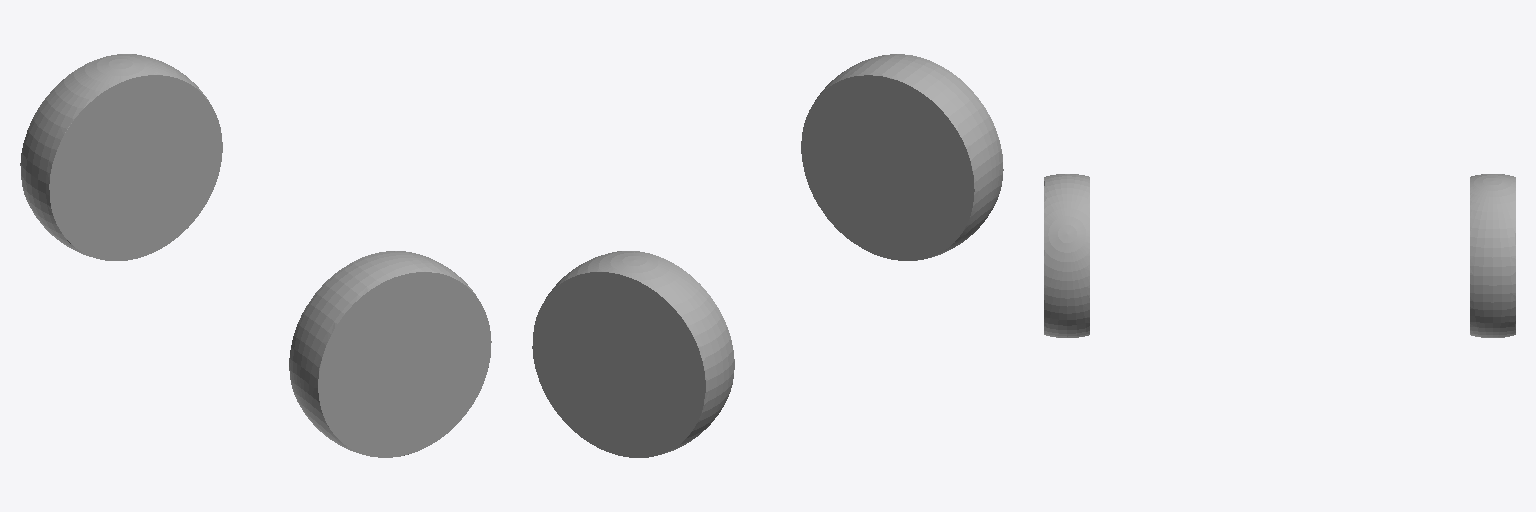
URDF robot description (diablo_mesh):
<?xml version="1.0" encoding="utf-8"?>
<!-- This URDF was automatically created by SolidWorks to URDF Exporter! Originally created by [author] ([email redacted]) 
     Commit Version: 1.6.0-4-g7f85cfe  Build Version: 1.6.7995.38578
     For more information, please see http://wiki.ros.org/sw_urdf_exporter -->
<robot
  name="diablo_mesh">
  <link
    name="base_link">
    <inertial>
      <origin
        xyz="0.020214 1.4086E-08 0.0092665"
        rpy="0 0 0" />
      <mass
        value="11.639" />
      <inertia
        ixx="0.071628"
        ixy="-5.9879E-09"
        ixz="-0.00097471"
        iyy="0.16274"
        iyz="-1.6369E-08"
        izz="0.14673" />
    </inertial>
    <visual>
      <origin
        xyz="0 0 0"
        rpy="0 0 0" />
      <geometry>
        <mesh
          filename="../meshes/base_link.STL" />
      </geometry>
      <material
        name="">
        <color
          rgba="0.79216 0.81961 0.93333 1" />
      </material>
    </visual>
    <collision>
      <origin
        xyz="0 0 0"
        rpy="0 0 0" />
      <geometry>
        <mesh
          filename="../meshes/base_link.STL" />
      </geometry>
    </collision>
  </link>
  <link
    name="left_motor">
    <inertial>
      <origin
        xyz="0.0012043 -9.954E-08 -0.066749"
        rpy="0 0 0" />
      <mass
        value="1.3837" />
      <inertia
        ixx="0.003352"
        ixy="2.7785E-09"
        ixz="-6.5913E-05"
        iyy="0.0034908"
        iyz="4.5045E-10"
        izz="0.0034856" />
    </inertial>
    <visual>
      <origin
        xyz="0 0 0"
        rpy="0 0 0" />
      <geometry>
        <mesh
          filename="../meshes/left_motor.STL" />
      </geometry>
      <material
        name="">
        <color
          rgba="0.62745 0.62745 0.62745 1" />
      </material>
    </visual>
    <collision>
      <origin
        xyz="0 0 0"
        rpy="0 0 0" />
      <geometry>
        <mesh
          filename="../meshes/left_motor.STL" />
      </geometry>
    </collision>
  </link>
  <joint
    name="left_j4"
    type="continuous">
    <origin
      xyz="0 0.18755 0"
      rpy="1.5708 0.13433 -3.1416" />
    <parent
      link="base_link" />
    <child
      link="left_motor" />
    <axis
      xyz="0 0 -1" />
  </joint>
  <link
    name="left_leg1">
    <inertial>
      <origin
        xyz="0.056675 -0.014633 -0.0079998"
        rpy="0 0 0" />
      <mass
        value="0.10382" />
      <inertia
        ixx="3.6972E-05"
        ixy="2.4106E-05"
        ixz="4.3699E-10"
        iyy="0.00029278"
        iyz="-4.1243E-11"
        izz="0.00032532" />
    </inertial>
    <visual>
      <origin
        xyz="0 0 0"
        rpy="0 0 0" />
      <geometry>
        <mesh
          filename="../meshes/left_leg1.STL" />
      </geometry>
      <material
        name="">
        <color
          rgba="0.62745 0.62745 0.62745 1" />
      </material>
    </visual>
    <collision>
      <origin
        xyz="0 0 0"
        rpy="0 0 0" />
      <geometry>
        <mesh
          filename="../meshes/left_leg1.STL" />
      </geometry>
    </collision>
  </link>
  <joint
    name="left_j1"
    type="continuous">
    <origin
      xyz="0 0 0"
      rpy="0 0 -2.8729" />
    <parent
      link="left_motor" />
    <child
      link="left_leg1" />
    <axis
      xyz="0 0 -1" />
  </joint>
  <link
    name="left_leg2">
    <inertial>
      <origin
        xyz="0.092381 7.2105E-07 0.012349"
        rpy="0 0 0" />
      <mass
        value="0.18218" />
      <inertia
        ixx="4.1372E-05"
        ixy="5.1445E-09"
        ixz="-7.3659E-06"
        iyy="0.00048219"
        iyz="2.5521E-11"
        izz="0.00050441" />
    </inertial>
    <visual>
      <origin
        xyz="0 0 0"
        rpy="0 0 0" />
      <geometry>
        <mesh
          filename="../meshes/left_leg2.STL" />
      </geometry>
      <material
        name="">
        <color
          rgba="0.62745 0.62745 0.62745 1" />
      </material>
    </visual>
    <collision>
      <origin
        xyz="0 0 0"
        rpy="0 0 0" />
      <geometry>
        <mesh
          filename="../meshes/left_leg2.STL" />
      </geometry>
    </collision>
  </link>
  <joint
    name="left_j2"
    type="continuous">
    <origin
      xyz="0.14 0 0"
      rpy="0 0 2.8729" />
    <parent
      link="left_leg1" />
    <child
      link="left_leg2" />
    <axis
      xyz="0 0 1" />
  </joint>
  <link
    name="left_wheel">
    <inertial>
      <origin
        xyz="1.7359E-08 -1.5164E-10 5.0791E-09"
        rpy="0 0 0" />
      <mass
        value="2.9494" />
      <inertia
        ixx="0.0069338"
        ixy="2.8693E-09"
        ixz="4.6779E-09"
        iyy="0.006934"
        iyz="-5.0441E-11"
        izz="0.012567" />
    </inertial>
    <visual>
      <origin
        xyz="0 0 0"
        rpy="0 0 0" />
      <geometry>
        <mesh
          filename="../meshes/left_wheel.STL" />
      </geometry>
      <material
        name="">
        <color
          rgba="0.69804 0.69804 0.69804 1" />
        <texture
          filename="../textures/0a6c950e073a74d2e5cfa0c785a44257.jpg" />
      </material>
    </visual>
    <collision>
      <origin
        xyz="0 0 0"
        rpy="0 0 0" />
      <geometry>
        <mesh
          filename="../meshes/left_wheel.STL" />
      </geometry>
    </collision>
  </link>
  <joint
    name="left_j3"
    type="continuous">
    <origin
      xyz="0.14 0 0.0537"
      rpy="0 0 0.13433" />
    <parent
      link="left_leg2" />
    <child
      link="left_wheel" />
    <axis
      xyz="0 0 -1" />
  </joint>
  <link
    name="left_leg3">
    <inertial>
      <origin
        xyz="0.072113 0.016825 -0.008"
        rpy="0 0 0" />
      <mass
        value="0.071103" />
      <inertia
        ixx="1.6657E-05"
        ixy="-5.5246E-06"
        ixz="3.9598E-14"
        iyy="0.00017966"
        iyz="-6.5493E-15"
        izz="0.00019328" />
    </inertial>
    <visual>
      <origin
        xyz="0 0 0"
        rpy="0 0 0" />
      <geometry>
        <mesh
          filename="../meshes/left_leg3.STL" />
      </geometry>
      <material
        name="">
        <color
          rgba="0.62745 0.62745 0.62745 1" />
      </material>
    </visual>
    <collision>
      <origin
        xyz="0 0 0"
        rpy="0 0 0" />
      <geometry>
        <mesh
          filename="../meshes/left_leg3.STL" />
      </geometry>
    </collision>
  </link>
  <joint
    name="left_j5"
    type="continuous">
    <origin
      xyz="0.09 0 0"
      rpy="0 0 -2.8729" />
    <parent
      link="left_motor" />
    <child
      link="left_leg3" />
    <axis
      xyz="0 0 1" />
  </joint>
  <link
    name="right_motor">
    <inertial>
      <origin
        xyz="0.0012044 1.8203E-07 0.066749"
        rpy="0 0 0" />
      <mass
        value="1.3838" />
      <inertia
        ixx="0.003352"
        ixy="-2.6527E-09"
        ixz="6.5914E-05"
        iyy="0.0034908"
        iyz="-7.2968E-10"
        izz="0.0034856" />
    </inertial>
    <visual>
      <origin
        xyz="0 0 0"
        rpy="0 0 0" />
      <geometry>
        <mesh
          filename="../meshes/right_motor.STL" />
      </geometry>
      <material
        name="">
        <color
          rgba="0.62745 0.62745 0.62745 1" />
      </material>
    </visual>
    <collision>
      <origin
        xyz="0 0 0"
        rpy="0 0 0" />
      <geometry>
        <mesh
          filename="../meshes/right_motor.STL" />
      </geometry>
    </collision>
  </link>
  <joint
    name="right_j4"
    type="continuous">
    <origin
      xyz="0 -0.18755 0"
      rpy="1.5708 0.13433 3.1416" />
    <parent
      link="base_link" />
    <child
      link="right_motor" />
    <axis
      xyz="0 0 -1" />
  </joint>
  <link
    name="right_leg1">
    <inertial>
      <origin
        xyz="0.056675 -0.014633 0.0079998"
        rpy="0 0 0" />
      <mass
        value="0.10382" />
      <inertia
        ixx="3.6972E-05"
        ixy="2.4106E-05"
        ixz="-4.3686E-10"
        iyy="0.00029278"
        iyz="4.1459E-11"
        izz="0.00032532" />
    </inertial>
    <visual>
      <origin
        xyz="0 0 0"
        rpy="0 0 0" />
      <geometry>
        <mesh
          filename="../meshes/right_leg1.STL" />
      </geometry>
      <material
        name="">
        <color
          rgba="0.62745 0.62745 0.62745 1" />
      </material>
    </visual>
    <collision>
      <origin
        xyz="0 0 0"
        rpy="0 0 0" />
      <geometry>
        <mesh
          filename="../meshes/right_leg1.STL" />
      </geometry>
    </collision>
  </link>
  <joint
    name="right_j1"
    type="continuous">
    <origin
      xyz="0 0 0"
      rpy="0 0 -2.8729" />
    <parent
      link="right_motor" />
    <child
      link="right_leg1" />
    <axis
      xyz="0 0 -1" />
  </joint>
  <link
    name="right_leg2">
    <inertial>
      <origin
        xyz="0.092381 7.2069E-07 -0.012349"
        rpy="0 0 0" />
      <mass
        value="0.18218" />
      <inertia
        ixx="4.1372E-05"
        ixy="5.1777E-09"
        ixz="7.3659E-06"
        iyy="0.00048219"
        iyz="4.5225E-11"
        izz="0.00050441" />
    </inertial>
    <visual>
      <origin
        xyz="0 0 0"
        rpy="0 0 0" />
      <geometry>
        <mesh
          filename="../meshes/right_leg2.STL" />
      </geometry>
      <material
        name="">
        <color
          rgba="0.62745 0.62745 0.62745 1" />
      </material>
    </visual>
    <collision>
      <origin
        xyz="0 0 0"
        rpy="0 0 0" />
      <geometry>
        <mesh
          filename="../meshes/right_leg2.STL" />
      </geometry>
    </collision>
  </link>
  <joint
    name="right_j2"
    type="continuous">
    <origin
      xyz="0.14 0 0"
      rpy="0 0 2.8729" />
    <parent
      link="right_leg1" />
    <child
      link="right_leg2" />
    <axis
      xyz="0 0 1" />
  </joint>
  <link
    name="right_wheel">
    <inertial>
      <origin
        xyz="-1.1211E-08 -1.346E-08 5.0793E-09"
        rpy="0 0 0" />
      <mass
        value="2.9494" />
      <inertia
        ixx="0.0069339"
        ixy="-1.3146E-07"
        ixz="-3.0392E-09"
        iyy="0.0069339"
        iyz="-3.5756E-09"
        izz="0.012567" />
    </inertial>
    <visual>
      <origin
        xyz="0 0 0"
        rpy="0 0 0" />
      <geometry>
        <mesh
          filename="../meshes/right_wheel.STL" />
      </geometry>
      <material
        name="">
        <color
          rgba="0.69804 0.69804 0.69804 1" />
        <texture
          filename="../textures/0a6c950e073a74d2e5cfa0c785a44257.jpg" />
      </material>
    </visual>
    <collision>
      <origin
        xyz="0 0 0"
        rpy="0 0 0" />
      <geometry>
        <mesh
          filename="../meshes/right_wheel.STL" />
      </geometry>
    </collision>
  </link>
  <joint
    name="right_j3"
    type="continuous">
    <origin
      xyz="0.14 0 -0.0537"
      rpy="0 0 -3.0073" />
    <parent
      link="right_leg2" />
    <child
      link="right_wheel" />
    <axis
      xyz="0 0 -1" />
  </joint>
  <link
    name="right_leg3">
    <inertial>
      <origin
        xyz="0.072113 0.016825 0.008"
        rpy="0 0 0" />
      <mass
        value="0.071103" />
      <inertia
        ixx="1.6657E-05"
        ixy="-5.5246E-06"
        ixz="1.4852E-14"
        iyy="0.00017966"
        iyz="-6.5194E-14"
        izz="0.00019328" />
    </inertial>
    <visual>
      <origin
        xyz="0 0 0"
        rpy="0 0 0" />
      <geometry>
        <mesh
          filename="../meshes/right_leg3.STL" />
      </geometry>
      <material
        name="">
        <color
          rgba="0.62745 0.62745 0.62745 1" />
      </material>
    </visual>
    <collision>
      <origin
        xyz="0 0 0"
        rpy="0 0 0" />
      <geometry>
        <mesh
          filename="../meshes/right_leg3.STL" />
      </geometry>
    </collision>
  </link>
  <joint
    name="right_j5"
    type="continuous">
    <origin
      xyz="0.09 0 0"
      rpy="0 0 -2.8729" />
    <parent
      link="right_motor" />
    <child
      link="right_leg3" />
    <axis
      xyz="0 0 1" />
  </joint>
  <link
    name="little_wheel_left1">
    <inertial>
      <origin
        xyz="6.2073E-13 0.012 -8.4308E-16"
        rpy="0 0 0" />
      <mass
        value="0.065911" />
      <inertia
        ixx="1.7479E-05"
        ixy="5.9069E-16"
        ixz="1.6511E-28"
        iyy="2.8907E-05"
        iyz="3.1935E-18"
        izz="1.7479E-05" />
    </inertial>
    <visual>
      <origin
        xyz="0 0 0"
        rpy="0 0 0" />
      <geometry>
        <mesh
          filename="../meshes/little_wheel_left1.STL" />
      </geometry>
      <material
        name="">
        <color
          rgba="1 1 1 1" />
      </material>
    </visual>
    <collision>
      <origin
        xyz="0 0 0"
        rpy="0 0 0" />
      <geometry>
        <mesh
          filename="../meshes/little_wheel_left1.STL" />
      </geometry>
    </collision>
  </link>
  <joint
    name="little_wheel_left_j1"
    type="continuous">
    <origin
      xyz="0.1562 0.08775 -0.101"
      rpy="0 0 0" />
    <parent
      link="base_link" />
    <child
      link="little_wheel_left1" />
    <axis
      xyz="0 1 0" />
  </joint>
  <link
    name="little_wheel_left2">
    <inertial>
      <origin
        xyz="5.63681046283904E-13 0.0120000000041354 2.68465805142171E-13"
        rpy="0 0 0" />
      <mass
        value="0.0659111230464467" />
      <inertia
        ixx="1.74789440963693E-05"
        ixy="5.34764281964642E-16"
        ixz="-4.2351647362715E-22"
        iyy="2.89067108351503E-05"
        iyz="2.53441128574976E-16"
        izz="1.74789440963693E-05" />
    </inertial>
    <visual>
      <origin
        xyz="0 0 0"
        rpy="0 0 0" />
      <geometry>
        <mesh
          filename="../meshes/little_wheel_left2.STL" />
      </geometry>
      <material
        name="">
        <color
          rgba="1 1 1 1" />
      </material>
    </visual>
    <collision>
      <origin
        xyz="0 0 0"
        rpy="0 0 0" />
      <geometry>
        <mesh
          filename="../meshes/little_wheel_left2.STL" />
      </geometry>
    </collision>
  </link>
  <joint
    name="little_wheel_left_j2"
    type="continuous">
    <origin
      xyz="-0.1135 0.08775 -0.101"
      rpy="0 0.4448 0" />
    <parent
      link="base_link" />
    <child
      link="little_wheel_left2" />
    <axis
      xyz="0 1 0" />
  </joint>
  <link
    name="little_wheel_right1">
    <inertial>
      <origin
        xyz="-6.784E-13 -0.012 -3.9468E-14"
        rpy="0 0 0" />
      <mass
        value="0.065911" />
      <inertia
        ixx="1.7479E-05"
        ixy="5.931E-16"
        ixz="6.6414E-32"
        iyy="2.8907E-05"
        iyz="1.4721E-21"
        izz="1.7479E-05" />
    </inertial>
    <visual>
      <origin
        xyz="0 0 0"
        rpy="0 0 0" />
      <geometry>
        <mesh
          filename="../meshes/little_wheel_right1.STL" />
      </geometry>
      <material
        name="">
        <color
          rgba="1 1 1 1" />
      </material>
    </visual>
    <collision>
      <origin
        xyz="0 0 0"
        rpy="0 0 0" />
      <geometry>
        <mesh
          filename="../meshes/little_wheel_right1.STL" />
      </geometry>
    </collision>
  </link>
  <joint
    name="little_wheel_right_j1"
    type="continuous">
    <origin
      xyz="0.1562 -0.08775 -0.101"
      rpy="0 0 0" />
    <parent
      link="base_link" />
    <child
      link="little_wheel_right1" />
    <axis
      xyz="0 1 0" />
  </joint>
  <link
    name="little_wheel_right2">
    <inertial>
      <origin
        xyz="-6.2098E-13 -0.012 9.2634E-16"
        rpy="0 0 0" />
      <mass
        value="0.065911" />
      <inertia
        ixx="1.7479E-05"
        ixy="5.9178E-16"
        ixz="-6.8314E-29"
        iyy="2.8907E-05"
        iyz="-1.3191E-18"
        izz="1.7479E-05" />
    </inertial>
    <visual>
      <origin
        xyz="0 0 0"
        rpy="0 0 0" />
      <geometry>
        <mesh
          filename="../meshes/little_wheel_right2.STL" />
      </geometry>
      <material
        name="">
        <color
          rgba="1 1 1 1" />
      </material>
    </visual>
    <collision>
      <origin
        xyz="0 0 0"
        rpy="0 0 0" />
      <geometry>
        <mesh
          filename="../meshes/little_wheel_right2.STL" />
      </geometry>
    </collision>
  </link>
  <joint
    name="little_wheel_right_j2"
    type="continuous">
    <origin
      xyz="-0.1135 -0.08775 -0.101"
      rpy="0 0 0" />
    <parent
      link="base_link" />
    <child
      link="little_wheel_right2" />
    <axis
      xyz="0 1 0" />
  </joint>

</robot>

--- What the picture shows (computed from the rendered views, not written in the file) ---
3 views of the same robot in one strip: view 1: azimuth 30°, elevation 25°; view 2: azimuth 150°, elevation 25°; view 3: azimuth 270°, elevation 25° (orthographic).
Model diablo_mesh with 15 links and 14 joints (14 continuous), rooted at base_link, posed all joints at 0.
Links seen in each view (by area): view 1: right_wheel, left_wheel; view 2: right_wheel, left_wheel; view 3: left_wheel, right_wheel.
Boxes of the visible links, left/top/right/bottom form: right_wheel: left=289, top=251, right=491, bottom=457; left_wheel: left=20, top=54, right=222, bottom=260; right_wheel: left=801, top=54, right=1003, bottom=260; left_wheel: left=532, top=251, right=734, bottom=457; left_wheel: left=1470, top=174, right=1515, bottom=337; right_wheel: left=1044, top=174, right=1089, bottom=337.
Size in the robot's own frame: 0.187 by 0.5345 by 0.187 metres.
Meshes: 15 distinct files referenced, 2 mesh visuals loaded (2 binary STL); not drawn: 13 (reference not matched to a file when rendering).